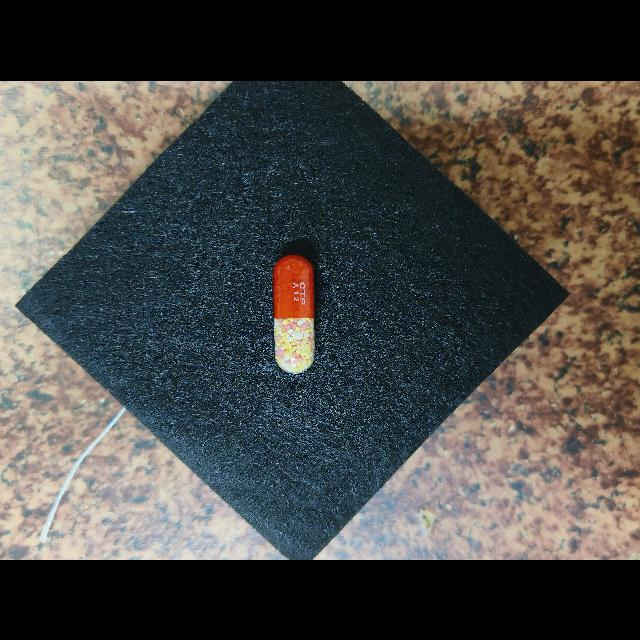Intact Capsule: (273, 254, 315, 373)
